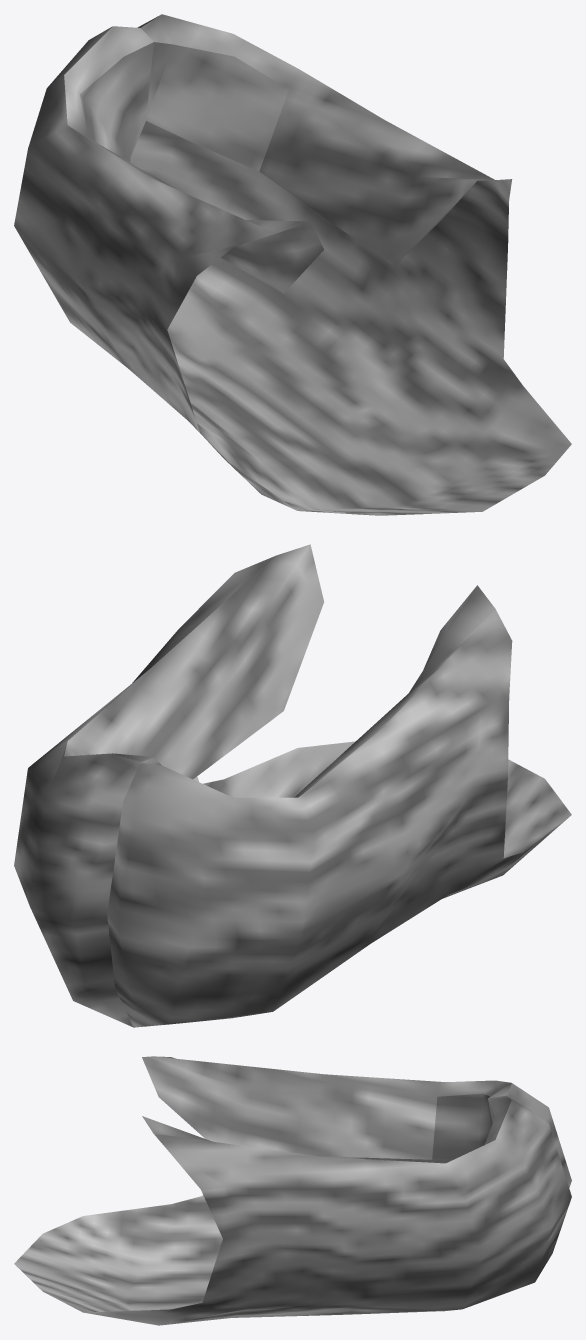
The model's file is Wig_M_Hair_Metal.fbx.
3 views of the same model, one above another, from view 1: azimuth 30°, elevation 25°; view 2: azimuth 150°, elevation 25°; view 3: azimuth 270°, elevation 25° (orthographic). The views are drawn at different scales.
Parts seen in each view (by area): view 1: BoxOfJars003; view 2: BoxOfJars003; view 3: BoxOfJars003.
Boxes of the visible parts, bbox=[...] form: BoxOfJars003: bbox=[14, 14, 571, 515]; BoxOfJars003: bbox=[14, 544, 571, 1027]; BoxOfJars003: bbox=[14, 1056, 571, 1325].
Bounding box in the file's own units: 16.31 × 13.7 × 32.07.
